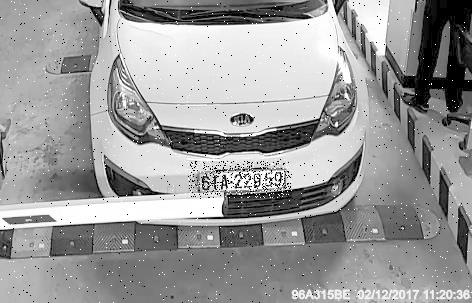License-plate: (189, 162, 293, 199)
